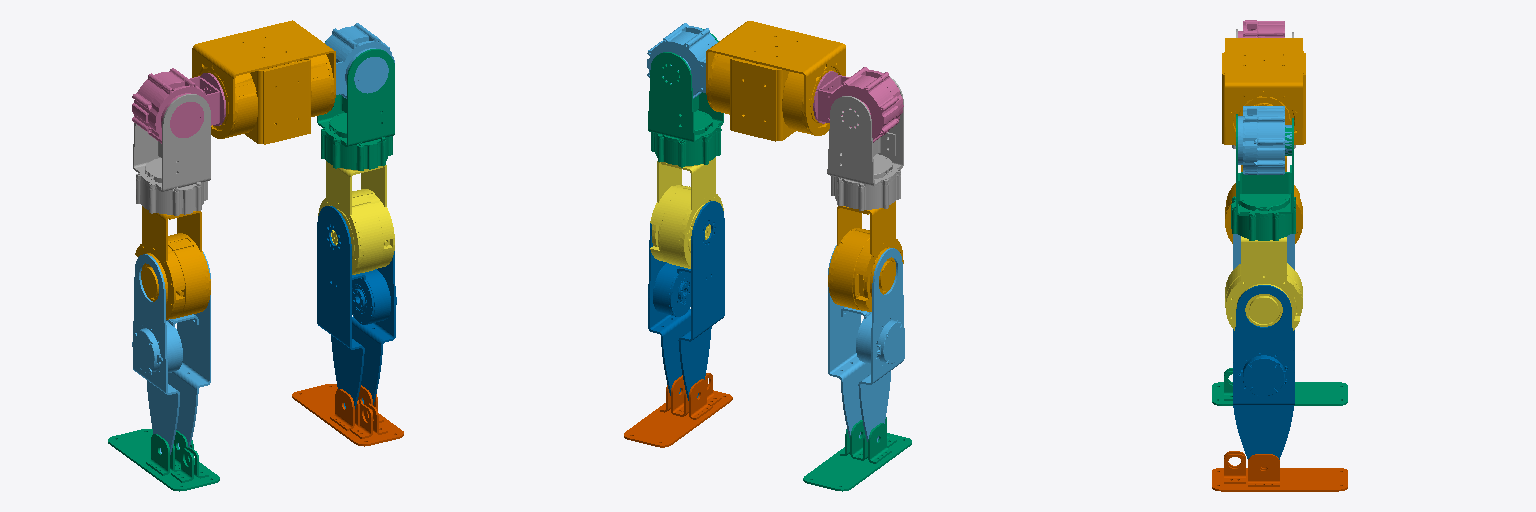
robot.urdf — ch_robot:
<?xml version='1.0' encoding='utf-8'?>
<robot name="ch_robot">
  <link name="hip">
    <inertial>
      <mass value="0.1" />
      <inertia ixx="0.001" ixy="0" ixz="0" iyy="0.001" iyz="0" izz="0.001" />
    </inertial><collision>
      <origin xyz="0 0 0" rpy="0 0 0" />
      <geometry>
        <mesh filename="robot_meshes/hip_ch.stl" scale="0.001 0.001 0.001" />
      </geometry>
    </collision>
    <visual>
      <origin xyz="0 0 0" rpy="0 0 0" />
      <geometry>
        <mesh filename="robot_meshes/visual/hip_dumb2.stl" scale="0.001 0.001 0.001" />
      </geometry>
    </visual>
  </link>
  <link name="left_leg1">
    <inertial>
      <mass value="0.1" />
      <inertia ixx="0.001" ixy="0" ixz="0" iyy="0.001" iyz="0" izz="0.001" />
    </inertial><collision>
      <origin xyz="0.068372 0.029495 -0.577401" rpy="0 0 0" />
      <geometry>
        <mesh filename="robot_meshes/left_leg1_ch.stl" scale="0.001 0.001 0.001" />
      </geometry>
    </collision>
    <visual>
      <origin xyz="0.068372 0.029495 -0.577401" rpy="0 0 0" />
      <geometry>
        <mesh filename="robot_meshes/visual/left_leg1_dumb.stl" scale="0.001 0.001 0.001" />
      </geometry>
    </visual>
  </link><link name="left_leg2">
    <inertial>
      <mass value="0.1" />
      <inertia ixx="0.001" ixy="0" ixz="0" iyy="0.001" iyz="0" izz="0.001" />
    </inertial><collision>
      <origin xyz="4.8e-05 0.029495 -0.577401" rpy="0 0 0" />
      <geometry>
        <mesh filename="robot_meshes/left_leg2_ch.stl" scale="0.001 0.001 0.001" />
      </geometry>
    </collision>
    <visual>
      <origin xyz="4.8e-05 0.029495 -0.577401" rpy="0 0 0" />
      <geometry>
        <mesh filename="robot_meshes/visual/left_leg2_dumb.stl" scale="0.001 0.001 0.001" />
      </geometry>
    </visual>
  </link><link name="left_leg3">
    <inertial>
      <mass value="0.1" />
      <inertia ixx="0.001" ixy="0" ixz="0" iyy="0.001" iyz="0" izz="0.001" />
    </inertial><collision>
      <origin xyz="4.8e-05 0.029495 -0.463816" rpy="0 0 0" />
      <geometry>
        <mesh filename="robot_meshes/left_leg3_ch.stl" scale="0.001 0.001 0.001" />
      </geometry>
    </collision>
    <visual>
      <origin xyz="4.8e-05 0.029495 -0.463816" rpy="0 0 0" />
      <geometry>
        <mesh filename="robot_meshes/visual/left_leg3_dumb.stl" scale="0.001 0.001 0.001" />
      </geometry>
    </visual>
  </link><link name="left_leg4">
    <inertial>
      <mass value="0.1" />
      <inertia ixx="0.001" ixy="0" ixz="0" iyy="0.001" iyz="0" izz="0.001" />
    </inertial><collision>
      <origin xyz="4.8e-05 0.029495 -0.306338" rpy="0 0 0" />
      <geometry>
        <mesh filename="robot_meshes/left_leg4_ch.stl" scale="0.001 0.001 0.001" />
      </geometry>
    </collision>
    <visual>
      <origin xyz="4.8e-05 0.029495 -0.306338" rpy="0 0 0" />
      <geometry>
        <mesh filename="robot_meshes/visual/left_leg4_dumb.stl" scale="0.001 0.001 0.001" />
      </geometry>
    </visual>
  </link><link name="left_foot">
    <inertial>
      <mass value="0.1" />
      <inertia ixx="0.001" ixy="0" ixz="0" iyy="0.001" iyz="0" izz="0.001" />
    </inertial><collision>
      <origin xyz="-0.00958 0.03 -0.031528" rpy="0 0 0" />
      <geometry>
        <mesh filename="robot_meshes/left_foot_ch.stl" scale="0.001 0.001 0.001" />
      </geometry>
    </collision>
    <visual>
      <origin xyz="-0.00958 0.03 -0.031528" rpy="0 0 0" />
      <geometry>
        <mesh filename="robot_meshes/visual/left_foot.stl" scale="0.001 0.001 0.001" />
      </geometry>
    </visual>
  </link><link name="right_leg1">
    <inertial>
      <mass value="0.1" />
      <inertia ixx="0.001" ixy="0" ixz="0" iyy="0.001" iyz="0" izz="0.001" />
    </inertial>
    <collision>
      <origin xyz="0.2429 0.029495 -0.577401" rpy="0 0 0" />
      <geometry>
        <mesh filename="robot_meshes/right_leg1_ch.stl" scale="0.001 0.001 0.001" />
      </geometry>
    </collision>
    <visual>
      <origin xyz="0.2429 0.029495 -0.577401" rpy="0 0 0" />
      <geometry>
        <mesh filename="robot_meshes/visual/right_leg1_dumb.stl" scale="0.001 0.001 0.001" />
      </geometry>
    </visual>
  </link><link name="right_leg2">
    <inertial>
      <mass value="0.1" />
      <inertia ixx="0.001" ixy="0" ixz="0" iyy="0.001" iyz="0" izz="0.001" />
    </inertial><collision>
      <origin xyz="0.311223 0.029495 -0.577401" rpy="0 0 0" />
      <geometry>
        <mesh filename="robot_meshes/right_leg2_ch.stl" scale="0.001 0.001 0.001" />
      </geometry>
    </collision>
    <visual>
      <origin xyz="0.311223 0.029495 -0.577401" rpy="0 0 0" />
      <geometry>
        <mesh filename="robot_meshes/visual/right_leg2_dumb.stl" scale="0.001 0.001 0.001" />
      </geometry>
    </visual>
  </link><link name="right_leg3">
    <inertial>
      <mass value="0.1" />
      <inertia ixx="0.001" ixy="0" ixz="0" iyy="0.001" iyz="0" izz="0.001" />
    </inertial><collision>
      <origin xyz="0.311223 0.029495 -0.463816" rpy="0 0 0" />
      <geometry>
        <mesh filename="robot_meshes/right_leg3_ch.stl" scale="0.001 0.001 0.001" />
      </geometry>
    </collision>
    <visual>
      <origin xyz="0.311223 0.029495 -0.463816" rpy="0 0 0" />
      <geometry>
        <mesh filename="robot_meshes/visual/right_leg3_dumb.stl" scale="0.001 0.001 0.001" />
      </geometry>
    </visual>
  </link><link name="right_leg4">
    <inertial>
      <mass value="0.1" />
      <inertia ixx="0.001" ixy="0" ixz="0" iyy="0.001" iyz="0" izz="0.001" />
    </inertial><collision>
      <origin xyz="0.311223 0.029495 -0.306338" rpy="0 0 0" />
      <geometry>
        <mesh filename="robot_meshes/right_leg4_ch.stl" scale="0.001 0.001 0.001" />
      </geometry>
    </collision>
    <visual>
      <origin xyz="0.311223 0.029495 -0.306338" rpy="0 0 0" />
      <geometry>
        <mesh filename="robot_meshes/visual/right_leg4_dumb.stl" scale="0.001 0.001 0.001" />
      </geometry>
    </visual>
  </link><link name="right_foot">
    <inertial>
      <mass value="0.1" />
      <inertia ixx="0.001" ixy="0" ixz="0" iyy="0.001" iyz="0" izz="0.001" />
    </inertial><collision>
      <origin xyz="0.320851 0.03 -0.031528" rpy="0 0 0" />
      <geometry>
        <mesh filename="robot_meshes/right_foot_ch.stl" scale="0.001 0.001 0.001" />
      </geometry>
    </collision>
    <visual>
      <origin xyz="0.320851 0.03 -0.031528" rpy="0 0 0" />
      <geometry>
        <mesh filename="robot_meshes/visual/right_foot.stl" scale="0.001 0.001 0.001" />
      </geometry>
    </visual>
  </link><joint name="left_hip1_joint" type="revolute">
    <parent link="hip" />
    <child link="left_leg1" />
    <origin xyz="-0.068372 -0.029495 0.577401" rpy="0 0 0" />
    <axis xyz="1.0 0.0 0.0" />
    <limit lower="-1.57" upper="1.57" effort="100" velocity="5.0" />
    <dynamics damping="1.0" />
  </joint><joint name="left_hip2_joint" type="revolute">
    <parent link="left_leg1" />
    <child link="left_leg2" />
    <origin xyz="0.068324 0 0" rpy="0 0 0" />
    <axis xyz="0.0 1.0 0.0" />
    <limit lower="-1.57" upper="1.57" effort="100" velocity="5.0" />
    <dynamics damping="1.0" />
  </joint><joint name="left_thigh_joint" type="revolute">
    <parent link="left_leg2" />
    <child link="left_leg3" />
    <origin xyz="0 0 -0.113585" rpy="0 0 0" />
    <axis xyz="0.0 0.0 1.0" />
    <limit lower="-1.57" upper="1.57" effort="100" velocity="5.0" />
    <dynamics damping="1.0" />
  </joint><joint name="left_knee_joint" type="revolute">
    <parent link="left_leg3" />
    <child link="left_leg4" />
    <origin xyz="0 0 -0.157478" rpy="0 0 0" />
    <axis xyz="1.0 0.0 0.0" />
    <limit lower="-1.57" upper="1.57" effort="100" velocity="5.0" />
    <dynamics damping="1.0" />
  </joint><joint name="left_ankle_joint" type="revolute">
    <parent link="left_leg4" />
    <child link="left_foot" />
    <origin xyz="0.009628 -0.000505 -0.27481" rpy="0 0 0" />
    <axis xyz="1.0 0.0 0.0" />
    <limit lower="-1.57" upper="1.57" effort="100" velocity="5.0" />
    <dynamics damping="1.0" />
  </joint><joint name="right_hip1_joint" type="revolute">
    <parent link="hip" />
    <child link="right_leg1" />
    <origin xyz="-0.2429 -0.029495 0.577401" rpy="0 0 0" />
    <axis xyz="1.0 0.0 0.0" />
    <limit lower="-1.57" upper="1.57" effort="100" velocity="5.0" />
    <dynamics damping="1.0" />
  </joint><joint name="right_hip2_joint" type="revolute">
    <parent link="right_leg1" />
    <child link="right_leg2" />
    <origin xyz="-0.068323 0 0" rpy="0 0 0" />
    <axis xyz="0.0 1.0 0.0" />
    <limit lower="-1.57" upper="1.57" effort="100" velocity="5.0" />
    <dynamics damping="1.0" />
  </joint><joint name="right_thigh_joint" type="revolute">
    <parent link="right_leg2" />
    <child link="right_leg3" />
    <origin xyz="0 0 -0.113585" rpy="0 0 0" />
    <axis xyz="0.0 0.0 1.0" />
    <limit lower="-1.57" upper="1.57" effort="100" velocity="5.0" />
    <dynamics damping="1.0" />
  </joint><joint name="right_knee_joint" type="revolute">
    <parent link="right_leg3" />
    <child link="right_leg4" />
    <origin xyz="0 0 -0.157478" rpy="0 0 0" />
    <axis xyz="1.0 0.0 0.0" />
    <limit lower="-1.57" upper="1.57" effort="100" velocity="5.0" />
    <dynamics damping="1.0" />
  </joint><joint name="right_ankle_joint" type="revolute">
    <parent link="right_leg4" />
    <child link="right_foot" />
    <origin xyz="-0.009628 -0.000505 -0.27481" rpy="0 0 0" />
    <axis xyz="1.0 0.0 0.0" />
    <limit lower="-1.57" upper="1.57" effort="100" velocity="5.0" />
    <dynamics damping="1.0" />
  </joint>
</robot>

--- Render facts (derived) ---
The picture shows the robot from 3 angles, left to right: view 1: azimuth 30°, elevation 25°; view 2: azimuth 150°, elevation 25°; view 3: azimuth 270°, elevation 25°; orthographic projection.
Robot: ch_robot — 11 links, 10 joints (10 revolute); root link hip; default pose: all joints at 0.
Visible links, largest first — view 1: hip, left_leg4, right_leg4, right_leg2, left_leg2, right_leg3, left_leg3, right_leg1, right_foot, left_foot, left_leg1; view 2: hip, left_leg4, right_leg4, right_leg2, left_leg2, right_leg3, left_leg3, left_foot, right_foot, right_leg1, left_leg1; view 3: left_leg4, hip, left_leg3, left_leg2, left_foot, left_leg1, right_foot, right_leg1, right_leg3.
Link boxes in pixels (x1,y1,x2,y2): hip: (192, 20, 335, 144); left_leg4: (317, 206, 396, 408); right_leg4: (132, 252, 210, 454); right_leg2: (133, 90, 210, 215); left_leg2: (317, 41, 394, 170); right_leg3: (135, 206, 210, 319); left_leg3: (318, 161, 394, 274); right_leg1: (132, 68, 225, 143); right_foot: (108, 429, 219, 491); left_foot: (292, 384, 403, 446); left_leg1: (325, 23, 394, 98); hip: (706, 21, 845, 141); left_leg4: (648, 201, 724, 400); right_leg4: (828, 245, 904, 441); right_leg2: (827, 72, 903, 210); left_leg2: (648, 28, 723, 167); right_leg3: (828, 201, 903, 311); left_leg3: (650, 157, 723, 268); left_foot: (624, 373, 732, 447); right_foot: (803, 417, 911, 491); right_leg1: (813, 67, 903, 142); left_leg1: (647, 23, 717, 98); left_leg4: (1233, 285, 1294, 459); hip: (1222, 38, 1305, 145); left_leg3: (1225, 236, 1302, 330); left_leg2: (1231, 114, 1295, 240); left_foot: (1212, 451, 1347, 491); left_leg1: (1238, 106, 1291, 174); right_foot: (1212, 368, 1347, 405); right_leg1: (1238, 20, 1284, 37); right_leg3: (1225, 156, 1302, 243).
Bounding box of the posed robot: 0.4118 × 0.21 × 0.6409 m (x, y, z).
11 mesh visuals loaded from 11 distinct referenced files (11 binary STL).